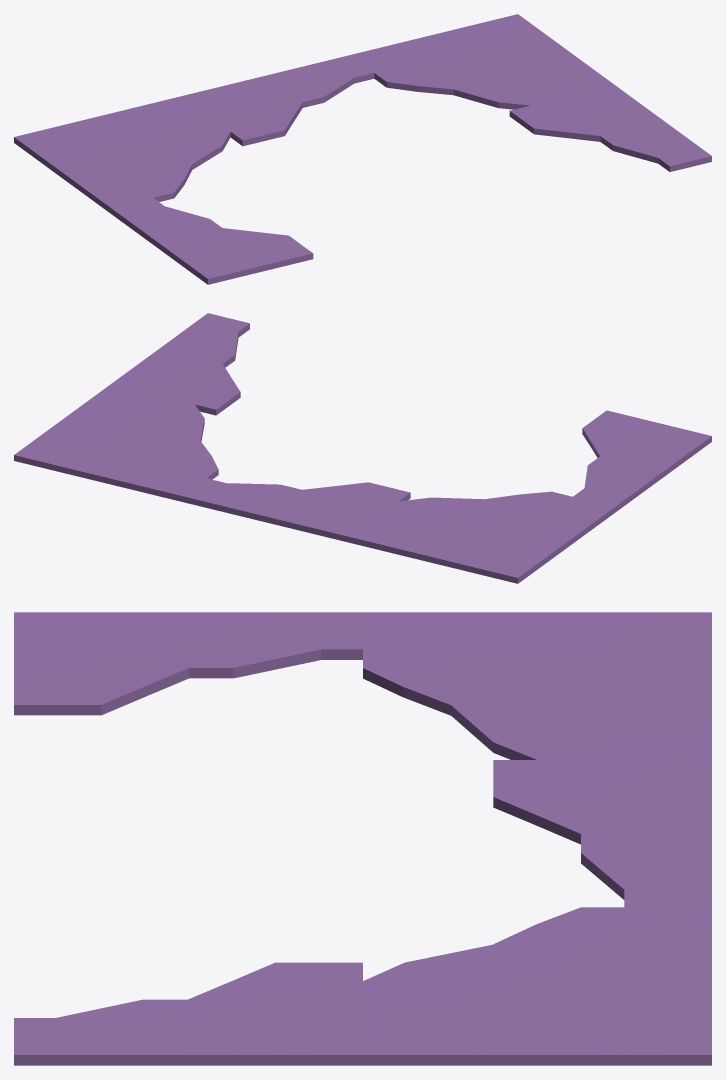
File: Floor_Break_05A_Lod0.fbx
3 renders of one model, top to bottom at view 1: azimuth 30°, elevation 25°; view 2: azimuth 150°, elevation 25°; view 3: azimuth 270°, elevation 25°, orthographic. The views are drawn at different scales.
Visible parts, largest first — view 1: Floor_Break_05A_Lod0; view 2: Floor_Break_05A_Lod0; view 3: Floor_Break_05A_Lod0.
Boxes of the visible parts, x1=… form: Floor_Break_05A_Lod0: x1=14, y1=14, x2=711, y2=284; Floor_Break_05A_Lod0: x1=14, y1=313, x2=711, y2=583; Floor_Break_05A_Lod0: x1=14, y1=612, x2=711, y2=1065.
Size of the model in its own units: 900 by 10.26 by 600.
